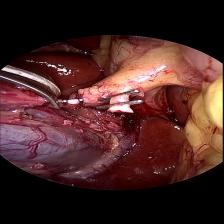Scissors: (1, 63, 69, 111)
